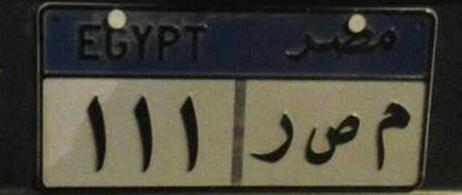1: (125, 86, 161, 178), (176, 90, 206, 174), (83, 91, 111, 174)
meem: (369, 96, 411, 178)
raa: (247, 102, 296, 171)
saad: (303, 110, 362, 169)
